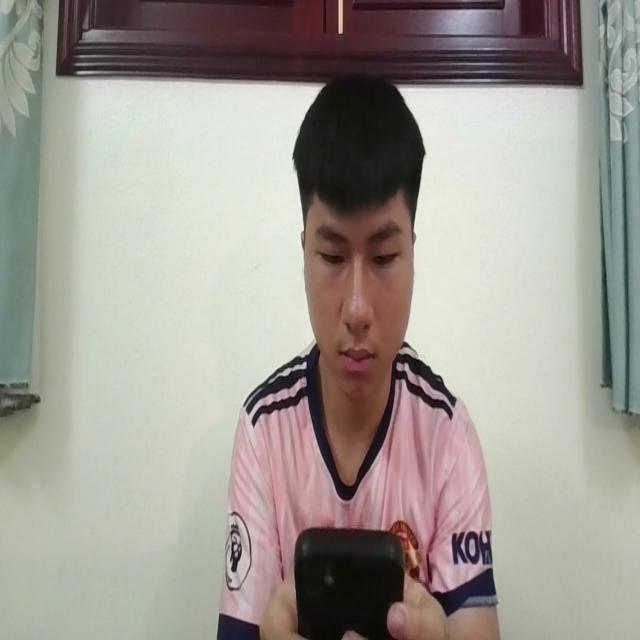phone: (293, 515, 406, 640)
student: (221, 66, 499, 640)
